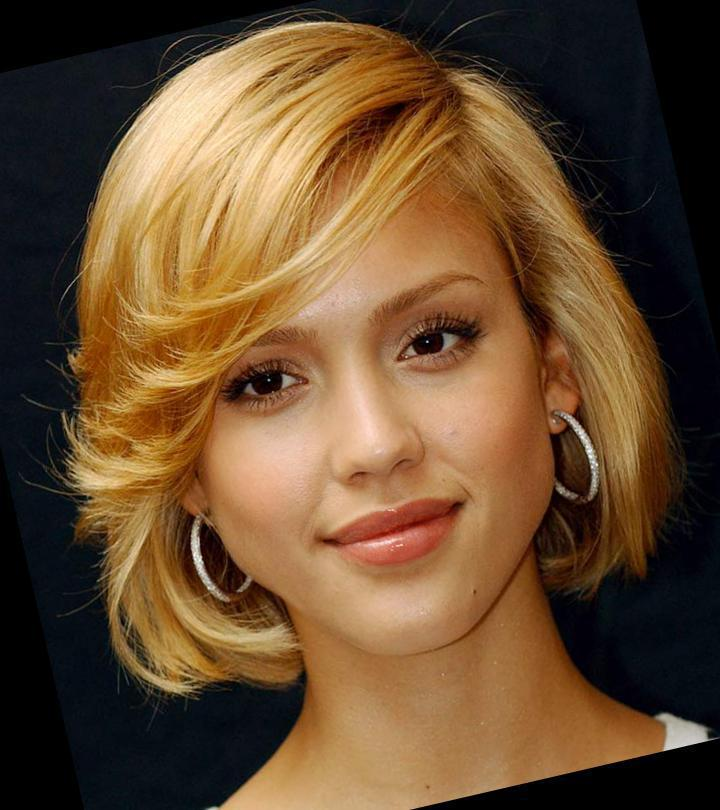Sober: (191, 175, 529, 627)
